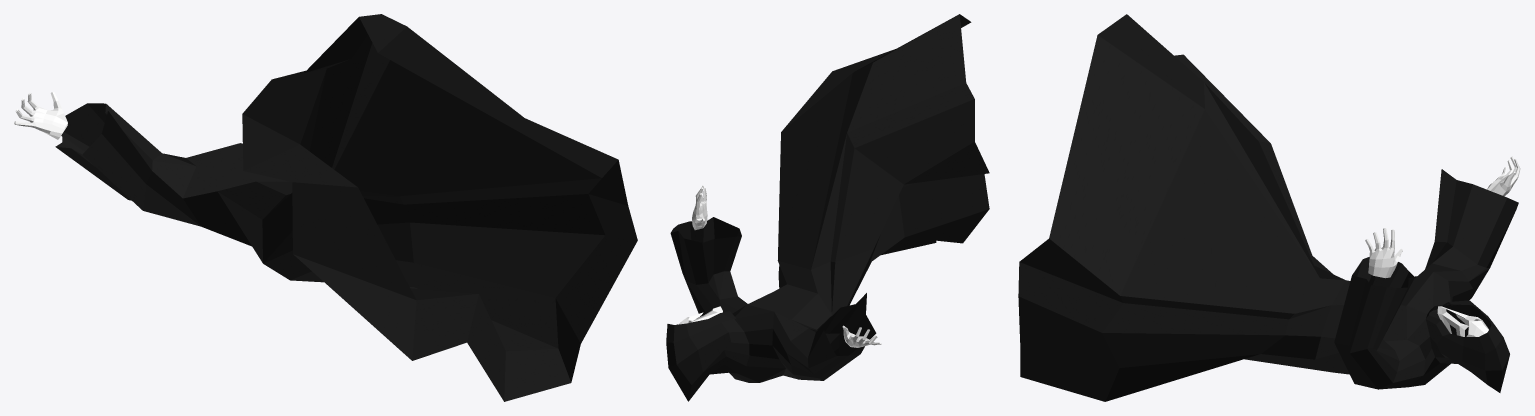
The model's file is ReaperDead(72).obj.
The picture shows the model from 3 angles, left to right: view 1: azimuth 30°, elevation 25°; view 2: azimuth 150°, elevation 25°; view 3: azimuth 270°, elevation 25°; orthographic projection. The views are drawn at different scales.
Parts seen in each view (by area): view 1: Plane003; view 2: Plane003; view 3: Plane003.
Boxes of the visible parts, left/top/right/bottom form: Plane003: left=14, top=14, right=637, bottom=401; Plane003: left=666, top=14, right=989, bottom=401; Plane003: left=1018, top=14, right=1520, bottom=401.
Size of the model in its own units: 145 by 148 by 208.
